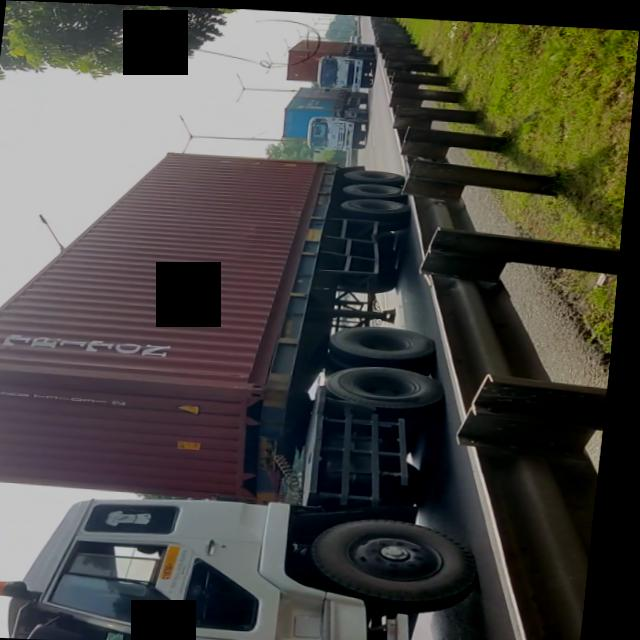Golongan V: (17, 147, 520, 640)
